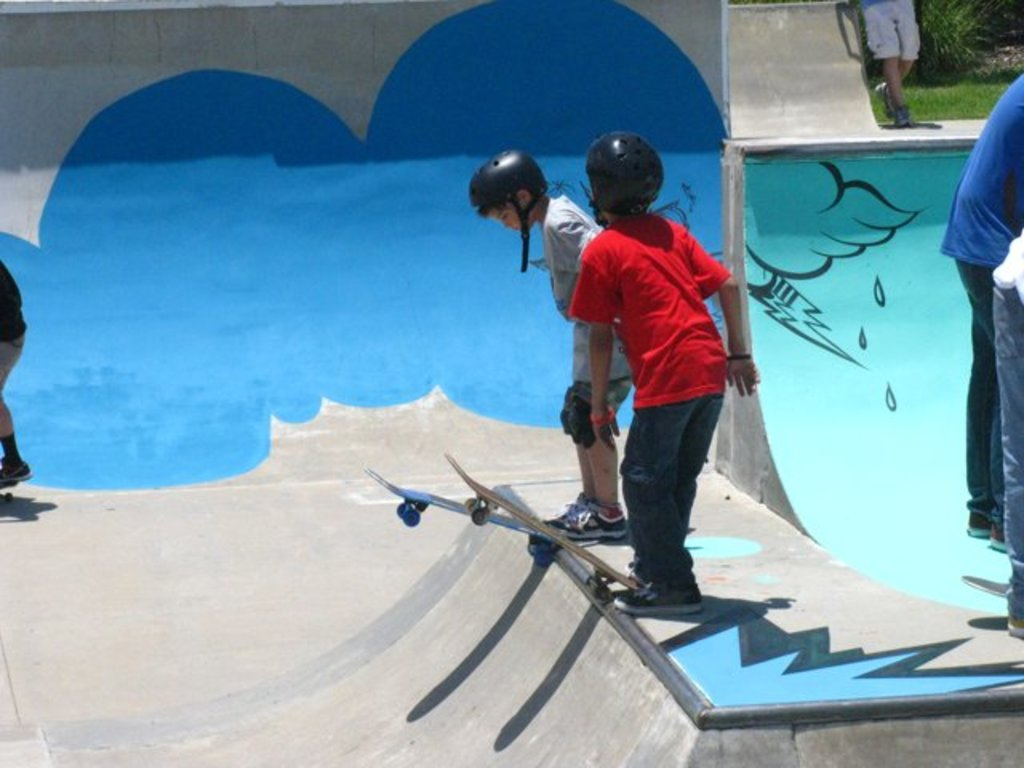Person: (568, 129, 763, 615), (470, 149, 633, 541), (941, 73, 1024, 533), (992, 238, 1024, 637), (867, 0, 923, 122), (0, 261, 30, 487)
